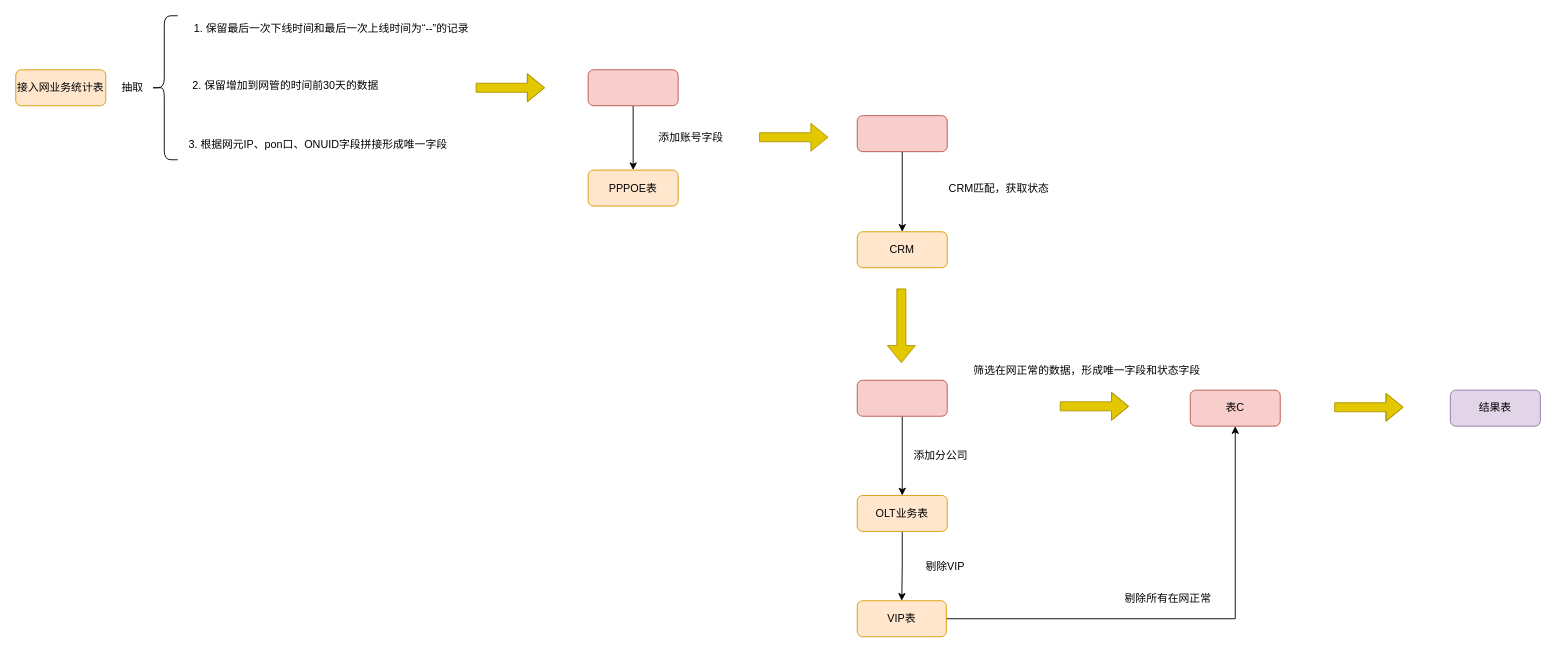
This 1556x653 diagram has some shape labels left out. The box of each missing label's shape, as (x1, y1, x2, y2) in pixels:
临时表: (856, 115, 947, 152)
表A: (587, 69, 678, 106)
表B: (856, 379, 947, 416)
